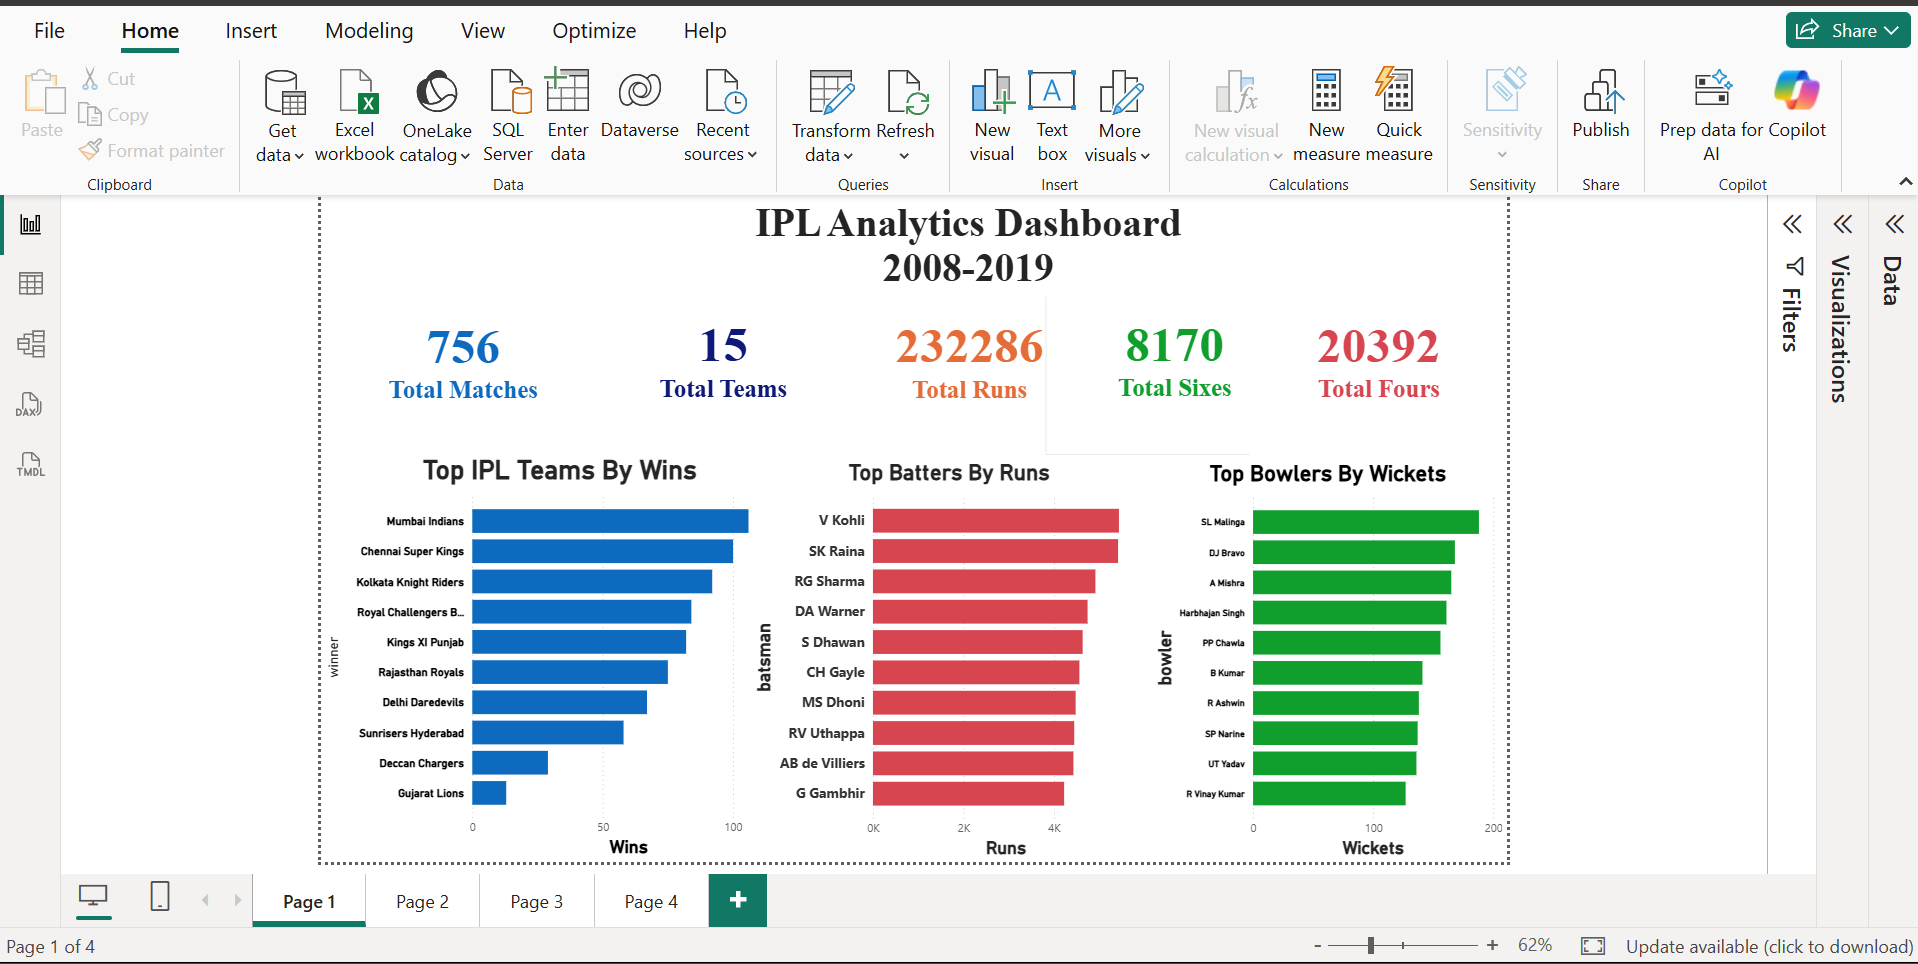

The page's visual inventory and layout, read from the dashboard file:
{"tool":"powerbi","page":{"name":"Page 1","canvas":[1280,720],"ordinal":0},"visuals":[{"type":"card","fields":{"Values":["CountNonNull(matches.id)"]},"box":[13.7,62.8,280.5,219.7],"z":0},{"type":"card","fields":{"Values":["matches.Total Teams"]},"box":[294.2,64.7,278.5,213.8],"z":1000},{"type":"card","fields":{"Values":["matches.Total Runs"]},"box":[558.9,54.9,282.4,235.3],"z":2000},{"type":"card","fields":{"Values":["matches.Total Sixes"]},"box":[782.5,60.8,278.5,219.7],"z":3000},{"type":"card","fields":{"Values":["matches.Total Fours"]},"box":[1002.2,62.8,278.5,217.7],"z":4000},{"type":"clusteredBarChart","title":"Top IPL Teams By Wins","fields":{"Category":["team_wins.winner"],"Y":["Sum(team_wins.count)"]},"box":[0,280.5,515.8,439.3],"z":5000},{"type":"clusteredBarChart","title":"Top Batters By Runs","fields":{"Category":["top_batsmen.batsman"],"Y":["Sum(top_batsmen.batsman_runs)"]},"box":[460.9,284.4,433.4,435.4],"z":6000},{"type":"barChart","title":"Top Bowlers By Wicket","fields":{"Category":["top_bowlers.bowler"],"Y":["Sum(top_bowlers.player_dismissed)"]},"box":[894.3,286.3,386.4,433.4],"z":7000},{"type":"textbox","box":[154.9,0,1086.5,109.8],"z":8000}]}

Visuals, with their boxes on the page's 1280x720 design canvas (x1, y1, x2, y2). These are canvas units, not pixel positions in the 1918x964 screenshot, which may show the page scaled, cropped or inside an application window:
card - CountNonNull(matches.id): detection(14, 63, 294, 282)
card - matches.Total Teams: detection(294, 65, 573, 278)
card - matches.Total Runs: detection(559, 55, 841, 290)
card - matches.Total Sixes: detection(782, 61, 1061, 280)
card - matches.Total Fours: detection(1002, 63, 1281, 280)
"Top IPL Teams By Wins" clusteredBarChart: detection(0, 280, 516, 720)
"Top Batters By Runs" clusteredBarChart: detection(461, 284, 894, 720)
"Top Bowlers By Wicket" barChart: detection(894, 286, 1281, 720)
textbox: detection(155, 0, 1241, 110)
